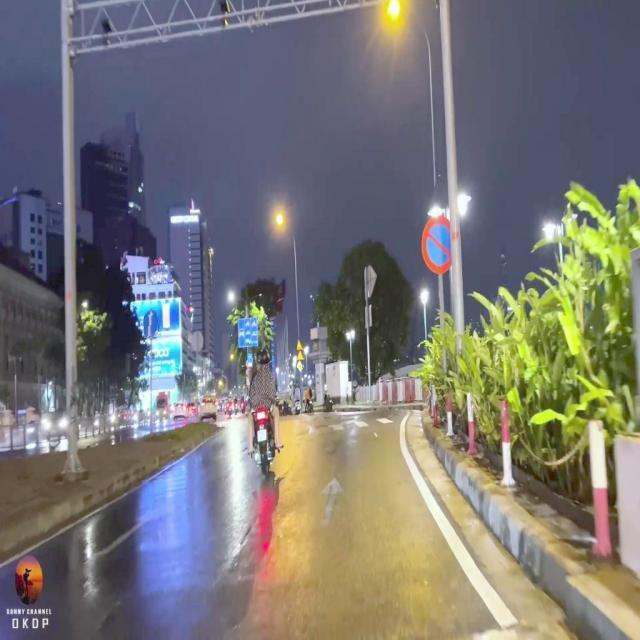131a-cam-do-xe: (421, 214, 454, 274)
407a-duong-mot-chieu: (144, 310, 160, 338)
